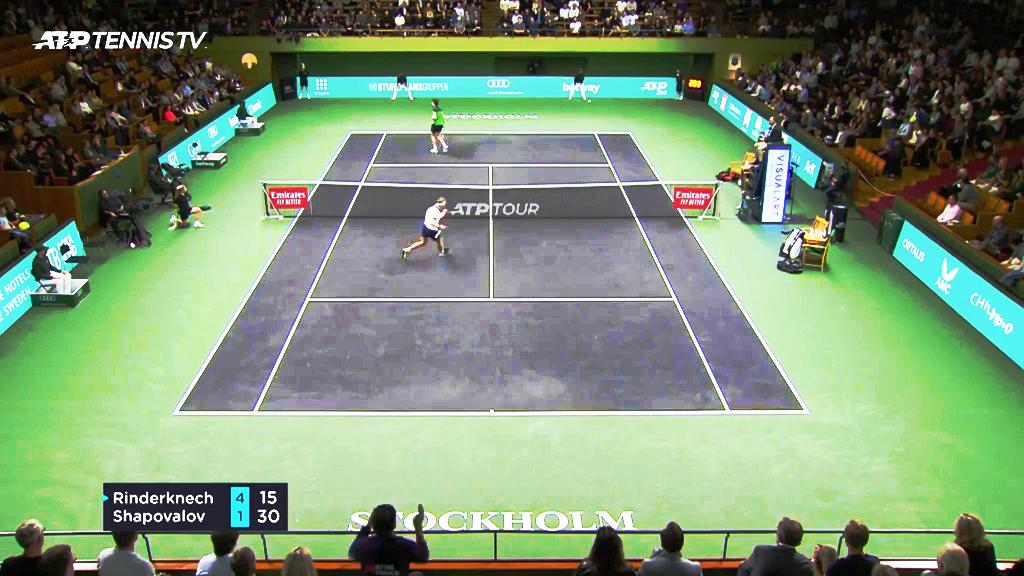tennis-court: (172, 132, 810, 415)
